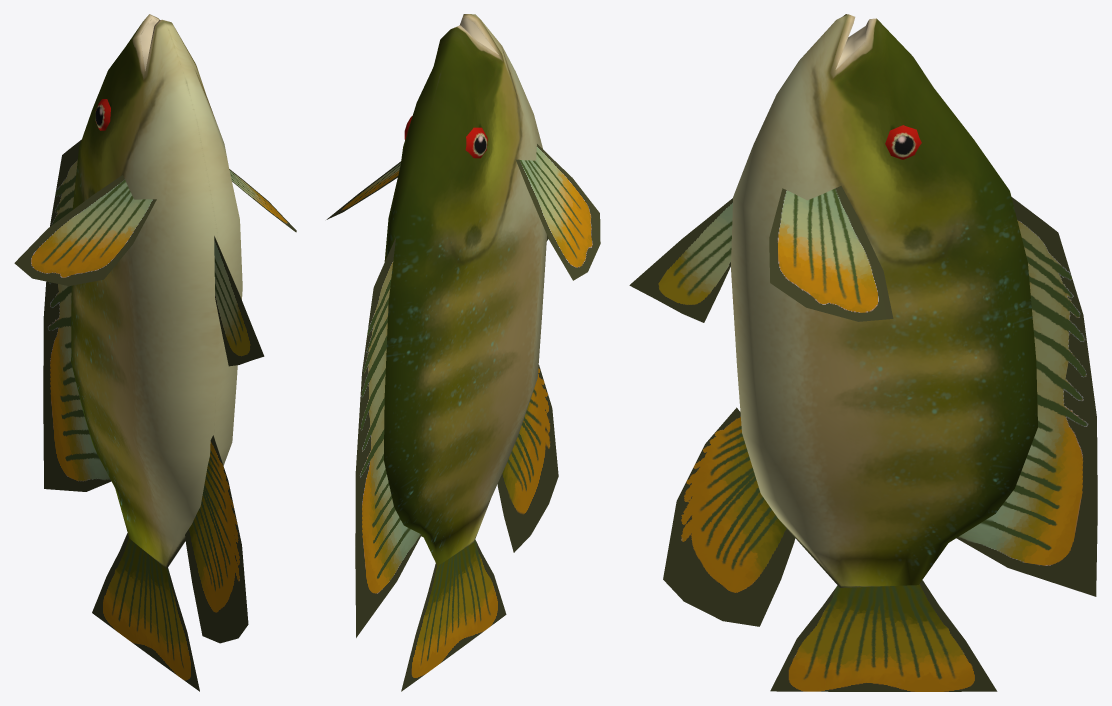
The model's file is SM_Sunfish.FBX.
The picture shows the model from 3 angles, left to right: view 1: azimuth 30°, elevation 25°; view 2: azimuth 150°, elevation 25°; view 3: azimuth 270°, elevation 25°; orthographic projection. The views are drawn at different scales.
Visible parts, largest first — view 1: SM_Sunfish; view 2: SM_Sunfish; view 3: SM_Sunfish.
Boxes of the visible parts, x1,y1,x2,y2 form: SM_Sunfish: (14,14,296,691); SM_Sunfish: (326,14,600,691); SM_Sunfish: (629,14,1097,691).
Size of what is drawn, in the model's own units: 9.85 by 14.96 by 23.86.
